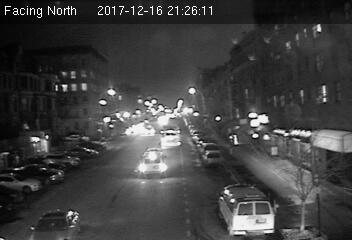car: (139, 147, 169, 177), (202, 150, 223, 165)
police: (216, 179, 282, 238), (24, 207, 83, 240)
